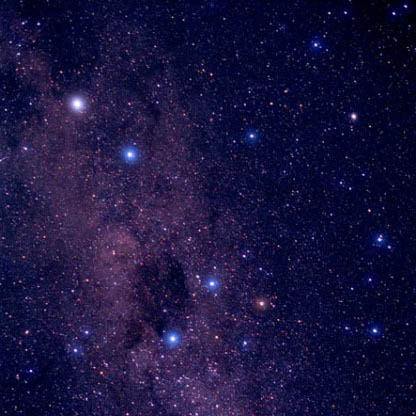Southern Cross: (159, 327, 183, 353), (202, 274, 223, 295), (251, 292, 271, 314), (234, 334, 254, 352)
